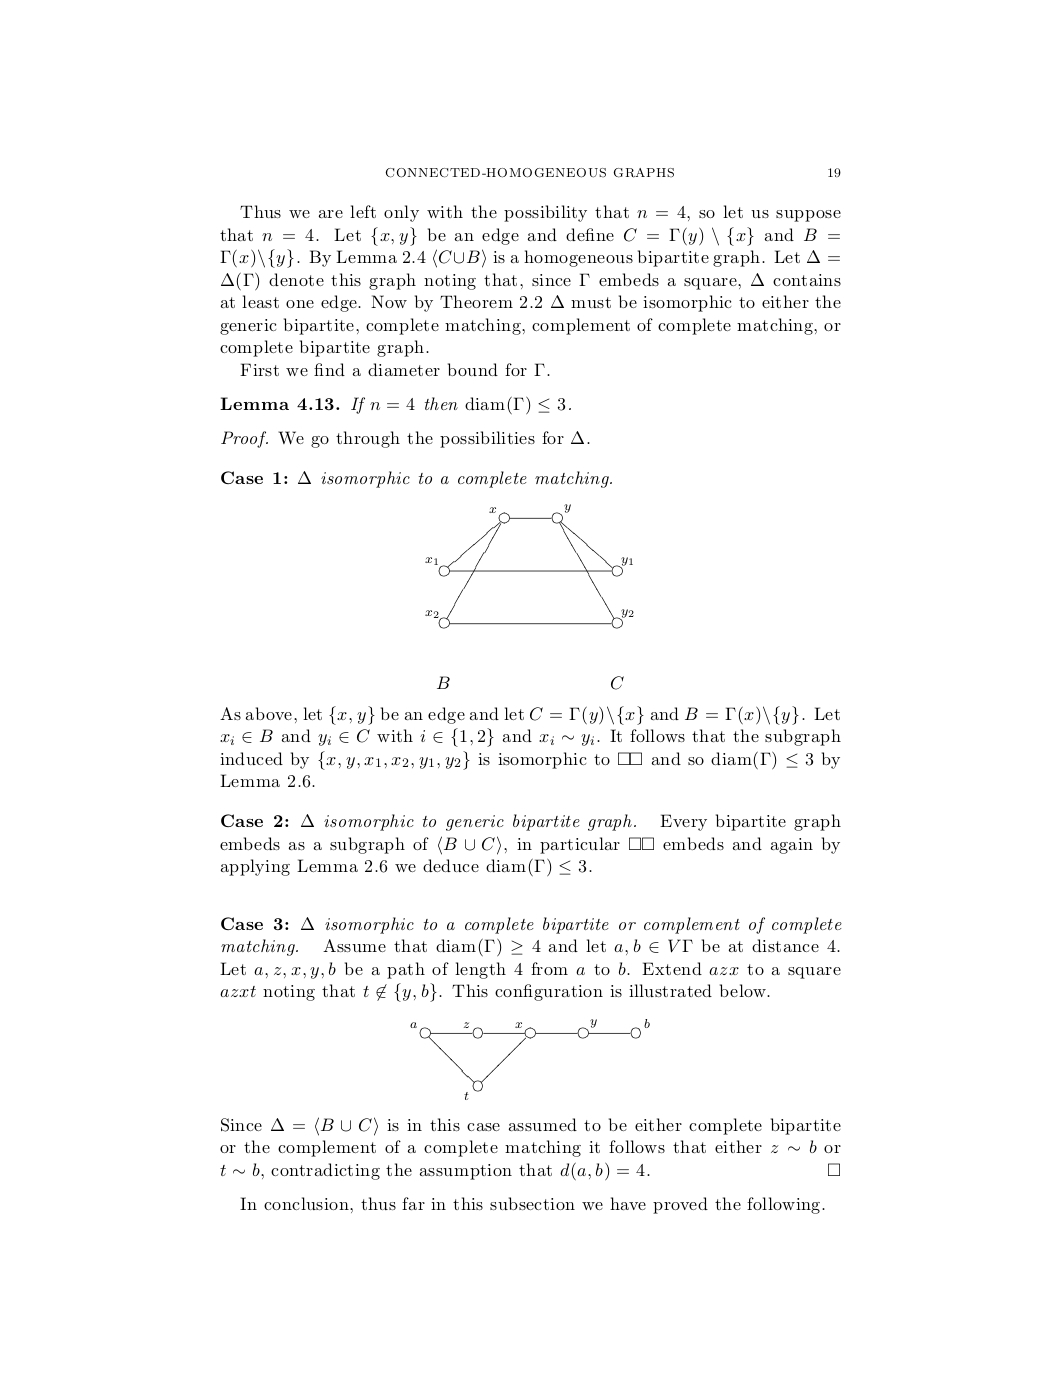figure: (425, 502, 633, 629), (410, 1017, 649, 1100)
